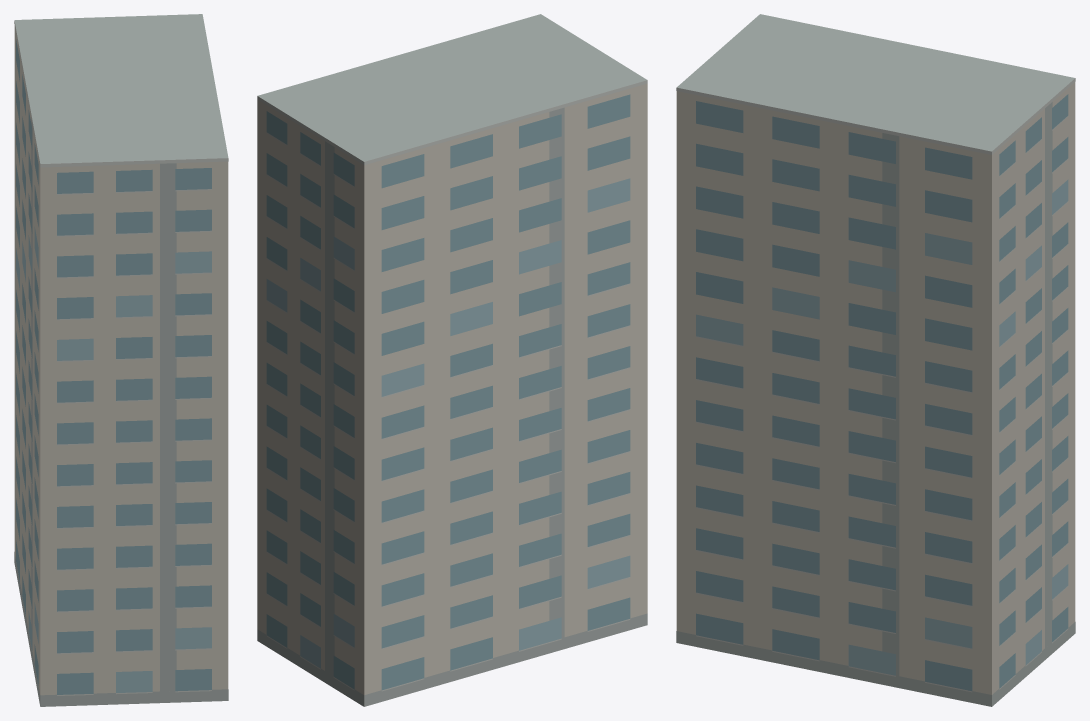
File: residential-c818a81c-b5ff-4d68-b44f-d73fb9e26cae.glb
3 renders of one model, left to right at view 1: azimuth 30°, elevation 25°; view 2: azimuth 150°, elevation 25°; view 3: azimuth 270°, elevation 25°, orthographic. The views are drawn at different scales.
Visible parts, largest first — view 1: residential-c818a81c-b5ff-4d68-b44f-d73fb9e26cae.tmp; view 2: residential-c818a81c-b5ff-4d68-b44f-d73fb9e26cae.tmp; view 3: residential-c818a81c-b5ff-4d68-b44f-d73fb9e26cae.tmp.
Boxes of the visible parts, <box> form: residential-c818a81c-b5ff-4d68-b44f-d73fb9e26cae.tmp: <box>14,14,228,706</box>; residential-c818a81c-b5ff-4d68-b44f-d73fb9e26cae.tmp: <box>257,14,647,706</box>; residential-c818a81c-b5ff-4d68-b44f-d73fb9e26cae.tmp: <box>676,14,1075,706</box>.
Size of the model in its own units: 20.73 by 39 by 25.4.
